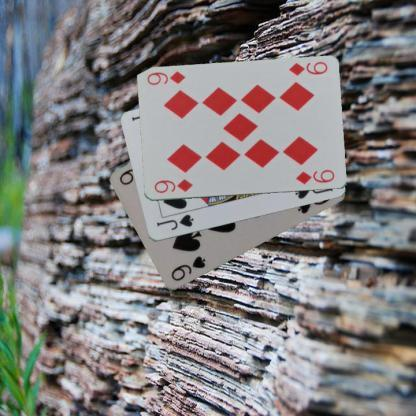9d: (286, 60, 329, 78), (152, 177, 194, 195)
9s: (168, 254, 207, 284)
Js: (154, 212, 194, 232)
